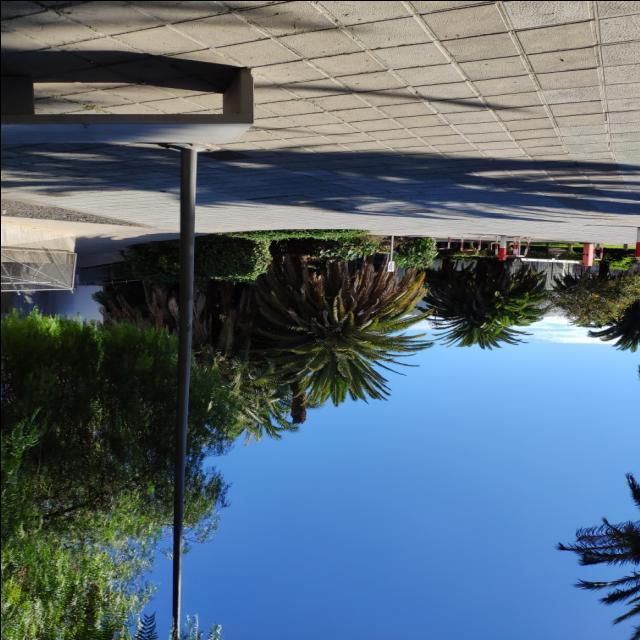Palm-Trees: (262, 255, 412, 402), (436, 256, 526, 350)
